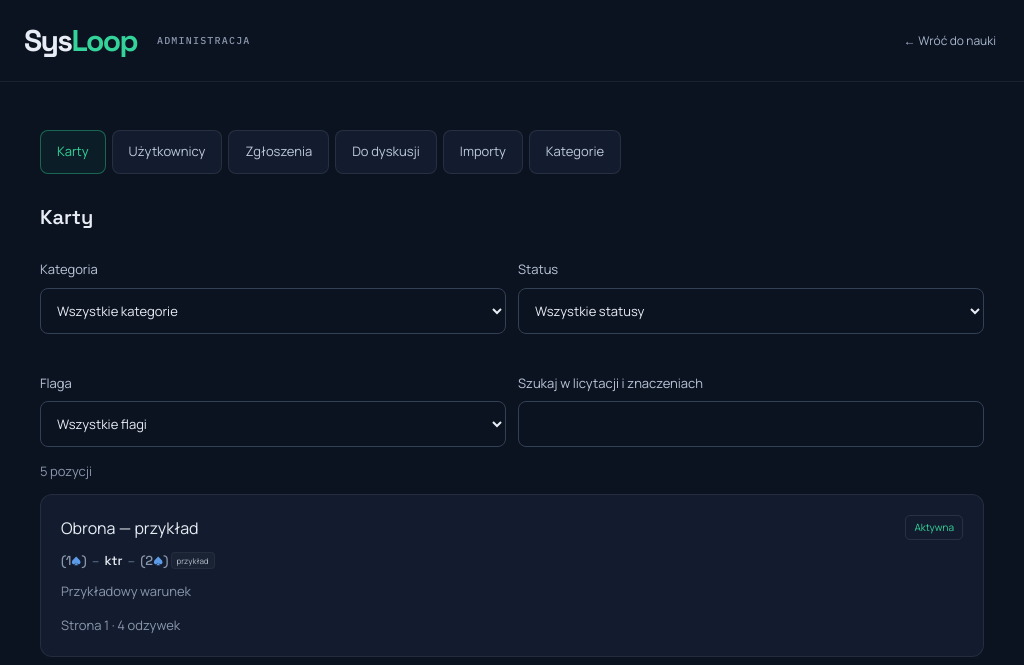
Scenario: panel administratora › zgłoszenie otwiera właściwą kartę w edytorze
Expected: the heading "Karty" is shown, [40,204,93,230]
Click the button "Zgłoszenia".
click(279, 152)  # box [228,130,329,174]
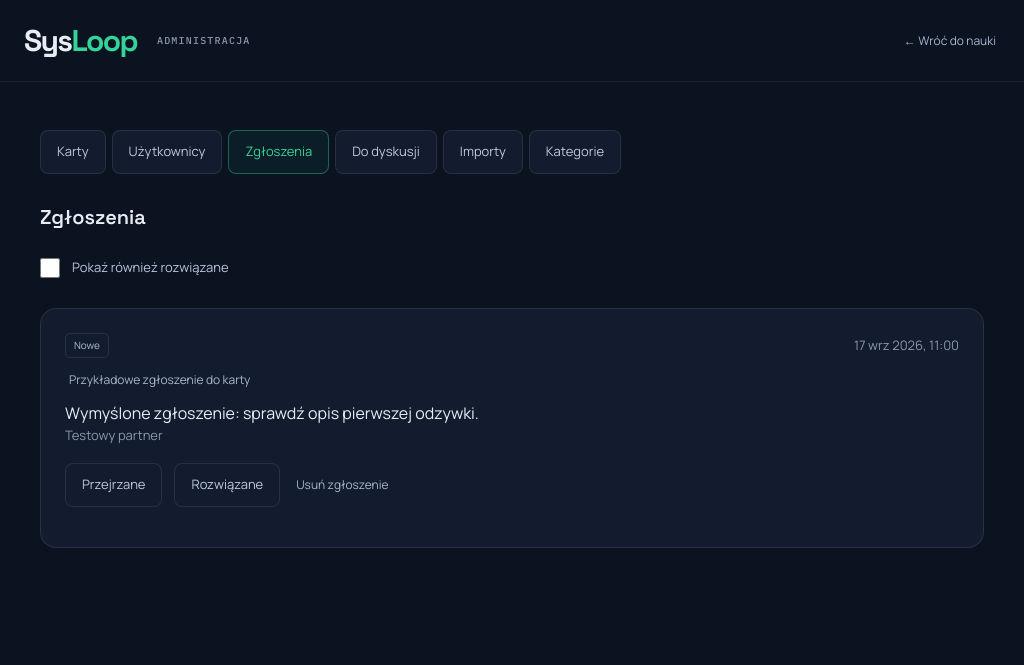
Click the button "Przykładowe zgłoszenie do karty".
click(160, 380)  # box [65,358,254,402]
(page scrolled)
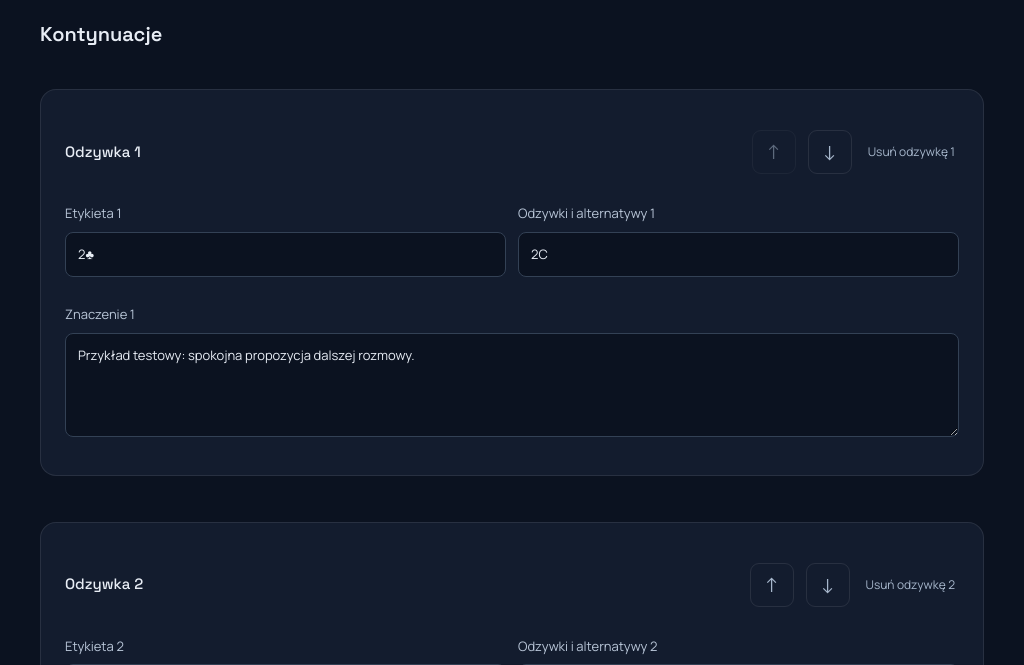
Expected: the text box labelled "Znaczenie 1" is shown, [65,333,959,437]
